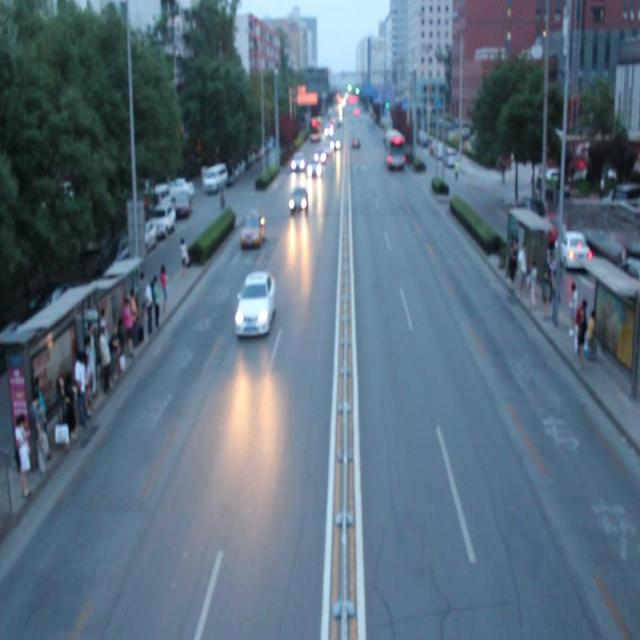car: (232, 268, 274, 338), (240, 207, 264, 246), (288, 184, 308, 213), (289, 152, 305, 170), (306, 160, 322, 177)
van: (382, 128, 406, 166)
